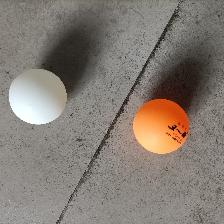WhiteBall: (7, 68, 66, 124)
YellowBall: (132, 98, 189, 154)
